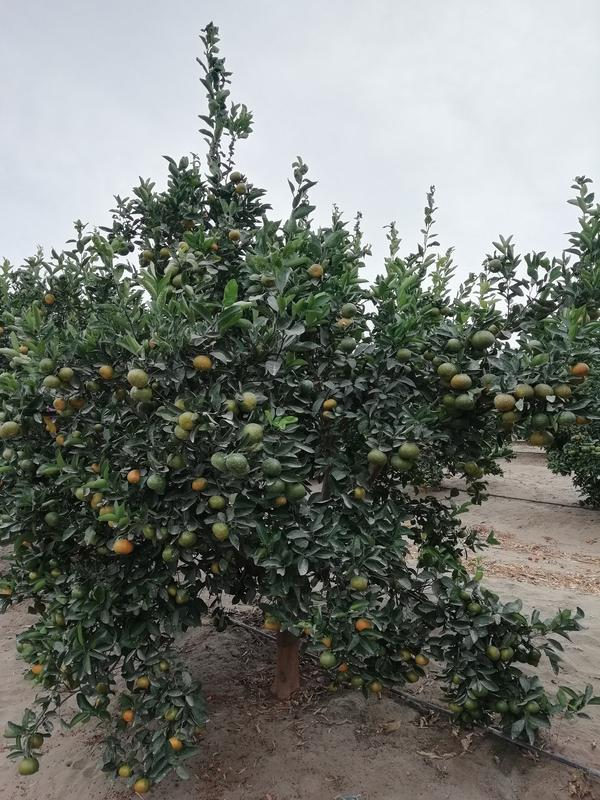mandarina naranja: (569, 362, 591, 378), (114, 537, 134, 554), (192, 354, 211, 370), (355, 617, 374, 630), (127, 468, 142, 484), (169, 736, 183, 751), (123, 708, 135, 723)
mandarina verde: (225, 451, 249, 475), (259, 456, 283, 477), (126, 368, 150, 388), (472, 330, 495, 350), (1, 420, 20, 442), (16, 757, 39, 775), (493, 393, 515, 411), (285, 482, 305, 501), (239, 391, 257, 412), (129, 388, 154, 403), (450, 374, 473, 390), (147, 473, 166, 492), (514, 382, 534, 400), (210, 522, 231, 539), (399, 444, 420, 461), (177, 531, 199, 547), (455, 393, 475, 410), (530, 431, 554, 445), (211, 451, 226, 473), (178, 411, 194, 431), (557, 411, 577, 427), (529, 414, 550, 429), (553, 382, 572, 398), (368, 450, 388, 465), (438, 362, 458, 377), (391, 457, 412, 471), (445, 337, 461, 355), (340, 303, 358, 319), (534, 383, 553, 398), (320, 651, 336, 668), (299, 378, 315, 395), (58, 366, 75, 382), (209, 495, 227, 510), (351, 576, 370, 590), (134, 777, 150, 793), (173, 425, 189, 441), (463, 459, 479, 475), (39, 359, 57, 373), (486, 645, 501, 661), (45, 511, 60, 526), (44, 375, 60, 389), (98, 365, 114, 379), (441, 392, 455, 408), (502, 412, 522, 423), (136, 675, 151, 689), (526, 700, 541, 714), (308, 263, 323, 277), (341, 336, 356, 350), (52, 398, 68, 411), (496, 700, 510, 714), (405, 668, 419, 682), (20, 459, 35, 472), (191, 478, 207, 490), (502, 648, 515, 662), (468, 602, 482, 615), (398, 349, 412, 362), (354, 487, 367, 500), (489, 259, 502, 272), (229, 228, 242, 241), (416, 654, 430, 666), (119, 765, 132, 777), (323, 398, 336, 410), (44, 292, 56, 305), (235, 182, 247, 195), (464, 698, 478, 709), (371, 681, 383, 693), (230, 170, 242, 181)
